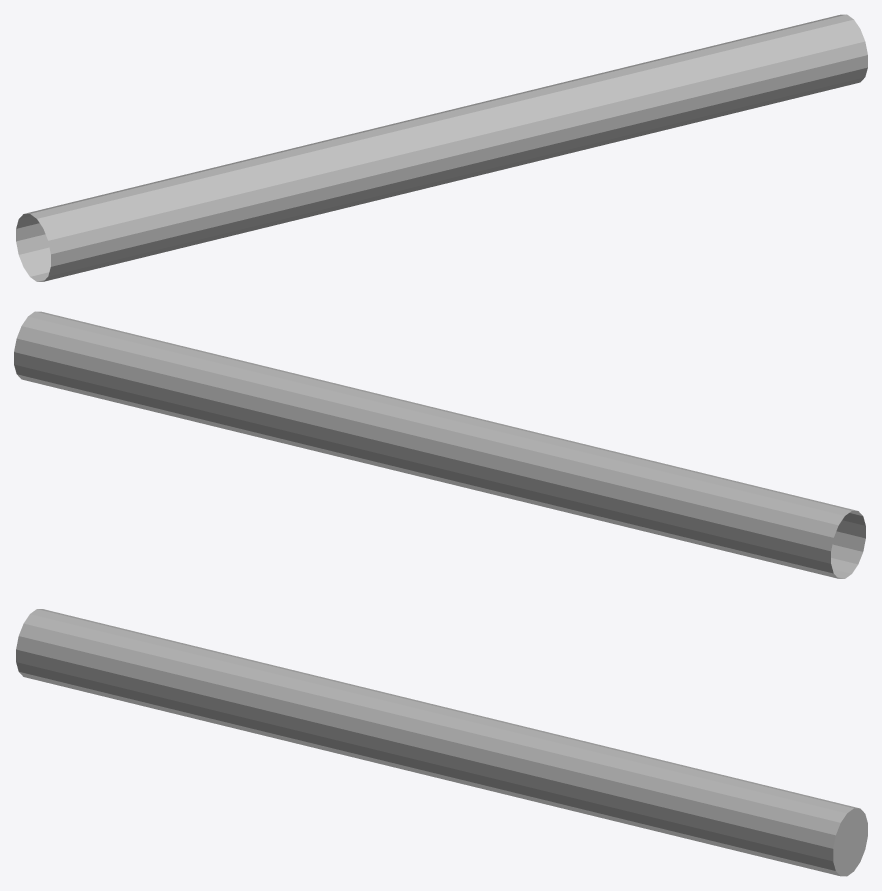
Rendered from Props_Pipe_01.fbx.
3 renders of one model, top to bottom at view 1: azimuth 30°, elevation 25°; view 2: azimuth 150°, elevation 25°; view 3: azimuth 330°, elevation 25°, orthographic.
Visible parts, largest first — view 1: Props_Pipe_01; view 2: Props_Pipe_01; view 3: Props_Pipe_01.
Part boxes in pixels (box(x1,y1,x2,y2)): Props_Pipe_01: box(16, 14, 867, 281); Props_Pipe_01: box(14, 311, 865, 578); Props_Pipe_01: box(16, 609, 867, 876).
Bounding box in the file's own units: 200 × 14.71 × 14.71.
